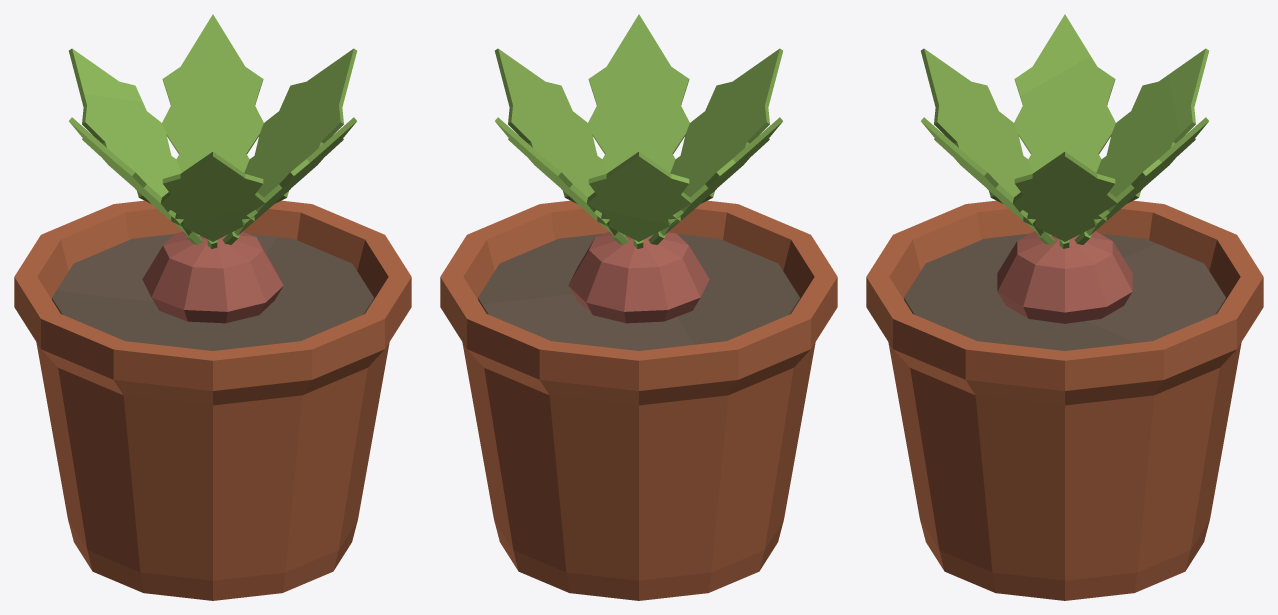
File: radish.glb
The picture shows the model from 3 angles, left to right: view 1: azimuth 30°, elevation 25°; view 2: azimuth 150°, elevation 25°; view 3: azimuth 270°, elevation 25°; orthographic projection.
Parts seen in each view (by area): view 1: radish/review-terra-vessel, radish/review-rooted-soil, radish/leaf-006, radish/exposed-root-shoulder-001, radish/leaf-004, radish/leaf-008, radish/leaf-012, radish/leaf-010, radish/leaf-014; view 2: radish/review-terra-vessel, radish/review-rooted-soil, radish/leaf-014, radish/exposed-root-shoulder-001, radish/leaf-004, radish/leaf-012, radish/leaf-008, radish/leaf-006, radish/leaf-010; view 3: radish/review-terra-vessel, radish/review-rooted-soil, radish/leaf-010, radish/exposed-root-shoulder-001, radish/leaf-008, radish/leaf-012, radish/leaf-004, radish/leaf-006, radish/leaf-014.
Part boxes in pixels (x1=…): radish/review-terra-vessel: x1=14, y1=200, x2=411, y2=600; radish/review-rooted-soil: x1=52, y1=233, x2=373, y2=350; radish/leaf-006: x1=162, y1=14, x2=263, y2=172; radish/exposed-root-shoulder-001: x1=142, y1=231, x2=283, y2=323; radish/leaf-004: x1=244, y1=48, x2=356, y2=203; radish/leaf-008: x1=69, y1=48, x2=181, y2=203; radish/leaf-012: x1=160, y1=152, x2=265, y2=241; radish/leaf-010: x1=69, y1=117, x2=191, y2=235; radish/leaf-014: x1=234, y1=117, x2=356, y2=235; radish/review-terra-vessel: x1=440, y1=200, x2=837, y2=600; radish/review-rooted-soil: x1=478, y1=233, x2=799, y2=350; radish/leaf-014: x1=588, y1=14, x2=689, y2=172; radish/exposed-root-shoulder-001: x1=568, y1=231, x2=709, y2=323; radish/leaf-004: x1=495, y1=48, x2=607, y2=203; radish/leaf-012: x1=670, y1=48, x2=782, y2=203; radish/leaf-008: x1=586, y1=152, x2=691, y2=241; radish/leaf-006: x1=495, y1=117, x2=617, y2=235; radish/leaf-010: x1=660, y1=117, x2=782, y2=235; radish/review-terra-vessel: x1=866, y1=200, x2=1263, y2=600; radish/review-rooted-soil: x1=904, y1=233, x2=1225, y2=350; radish/leaf-010: x1=1014, y1=14, x2=1115, y2=172; radish/exposed-root-shoulder-001: x1=997, y1=231, x2=1132, y2=323; radish/leaf-008: x1=1096, y1=48, x2=1208, y2=203; radish/leaf-012: x1=921, y1=48, x2=1033, y2=203; radish/leaf-004: x1=1012, y1=152, x2=1117, y2=241; radish/leaf-006: x1=1086, y1=117, x2=1208, y2=235; radish/leaf-014: x1=921, y1=117, x2=1043, y2=235.
Size of the model in its own units: 0.19 by 0.2424 by 0.19.
Materials: 5 (5 with a texture image).
